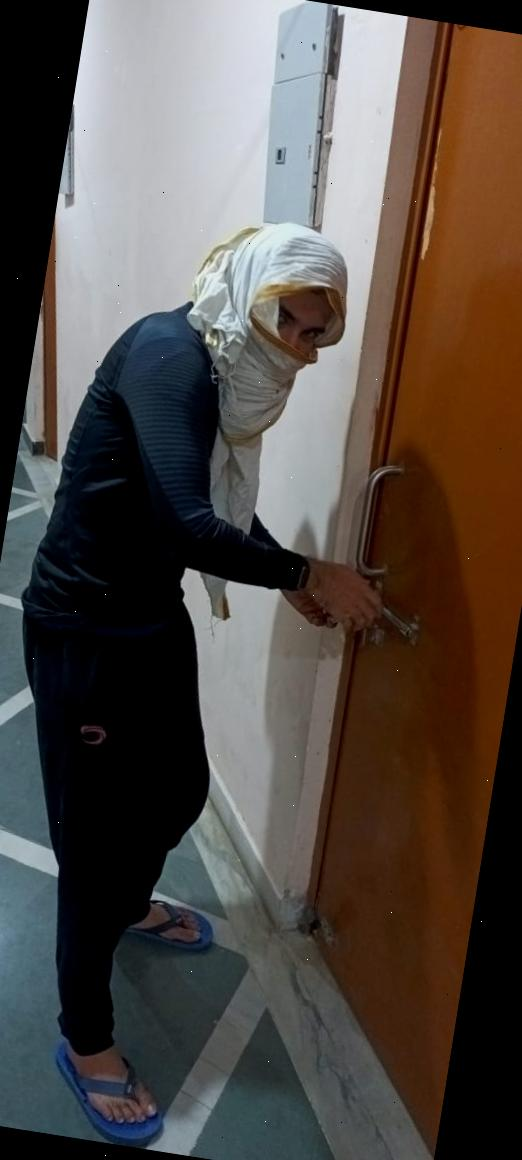suspicion: (0, 170, 511, 1160), (0, 130, 448, 1160)
